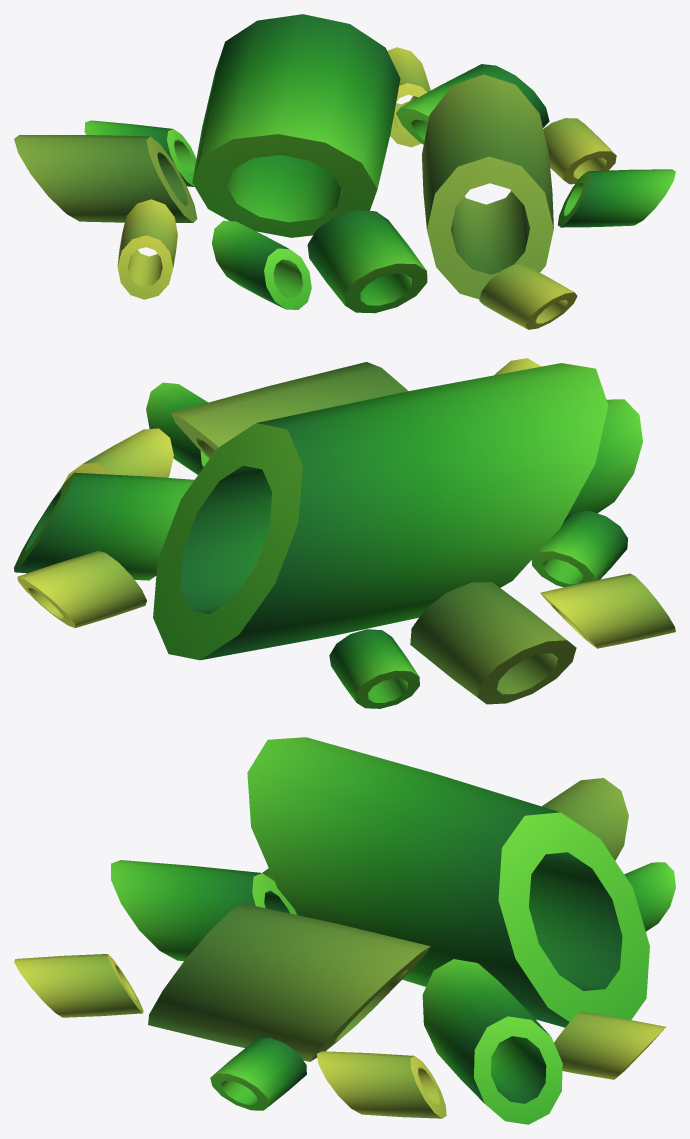
Rendered from Spring_Onion_Slice_01.glb.
3 views of the same model, one above another, from view 1: azimuth 30°, elevation 25°; view 2: azimuth 150°, elevation 25°; view 3: azimuth 270°, elevation 25° (orthographic). The views are drawn at different scales.
Parts seen in each view (by area): view 1: Spring_Onion_Slice_01; view 2: Spring_Onion_Slice_01; view 3: Spring_Onion_Slice_01.
Part boxes in pixels (x1,y1,x2,y2): Spring_Onion_Slice_01: [14, 14, 675, 329]; Spring_Onion_Slice_01: [14, 358, 675, 708]; Spring_Onion_Slice_01: [14, 737, 675, 1124].
Size of the model in its own units: 0.1325 by 0.0444 by 0.1374.
1 material, 1 textured.
